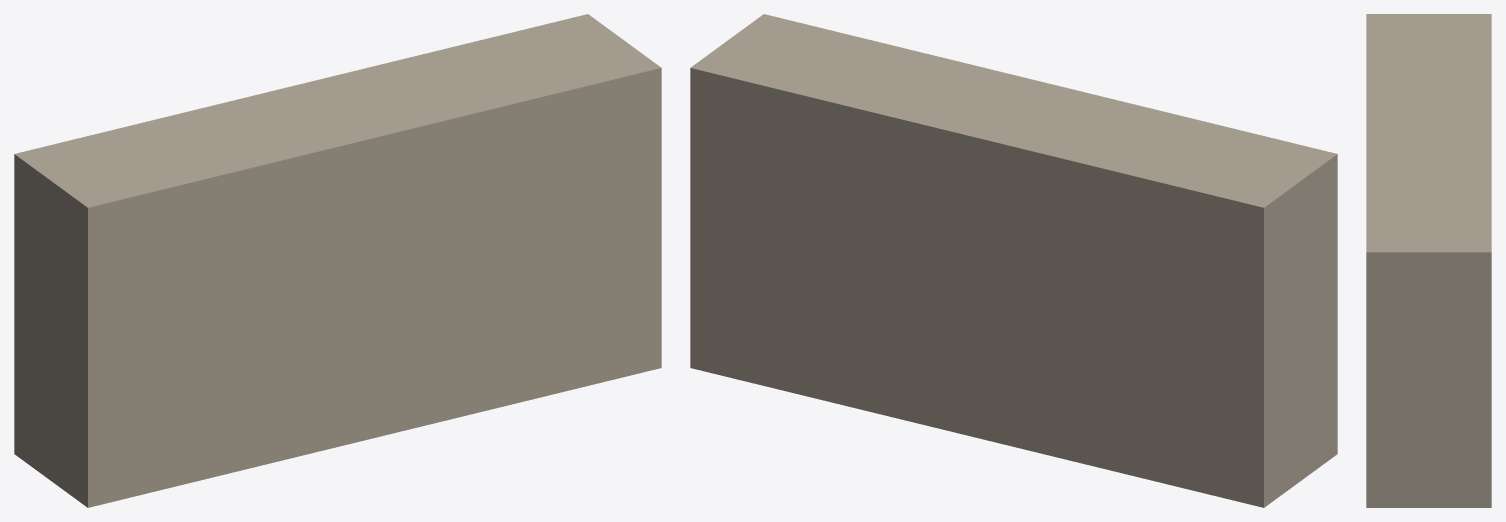
File: Village_Wall_QuarterM_Roof_A_Coll.fbx
The picture shows the model from 3 angles, left to right: view 1: azimuth 30°, elevation 25°; view 2: azimuth 150°, elevation 25°; view 3: azimuth 270°, elevation 25°; orthographic projection. The views are drawn at different scales.
Visible parts, largest first — view 1: Village_Wall_2m_Roof_A.210; view 2: Village_Wall_2m_Roof_A.210; view 3: Village_Wall_2m_Roof_A.210.
Part boxes in pixels (box(x1,y1,x2,y2)): Village_Wall_2m_Roof_A.210: box(14, 14, 661, 507); Village_Wall_2m_Roof_A.210: box(690, 14, 1337, 507); Village_Wall_2m_Roof_A.210: box(1366, 14, 1491, 507).
Bounding box in the file's own units: 112 × 56.23 × 25.
